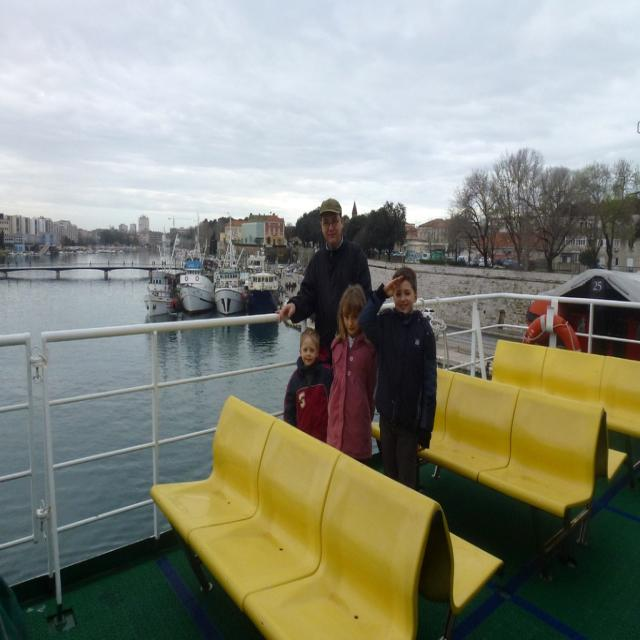Boat: (0, 258, 640, 640), (240, 245, 282, 331), (212, 215, 249, 312), (173, 246, 216, 312), (141, 246, 175, 317)
